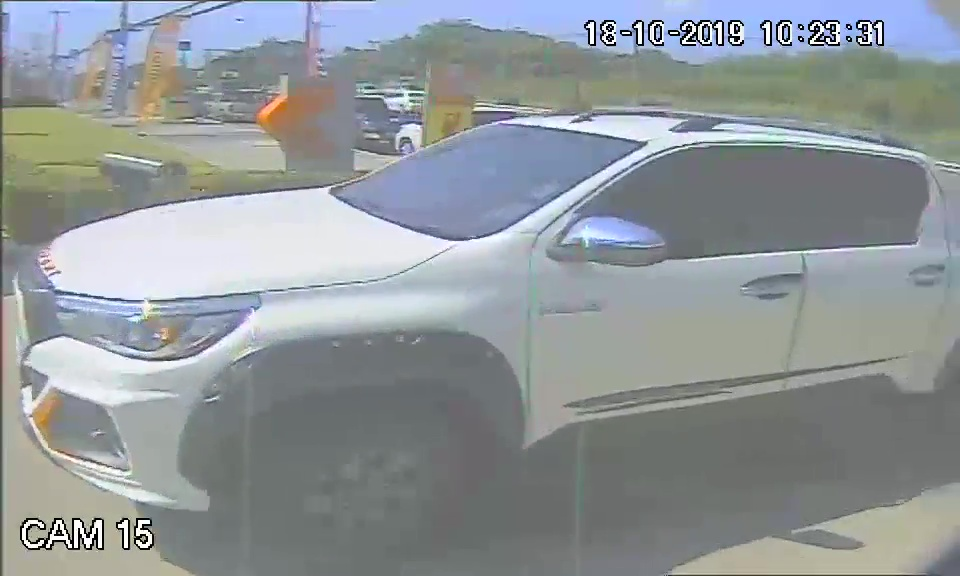pickup: (8, 110, 959, 524)
